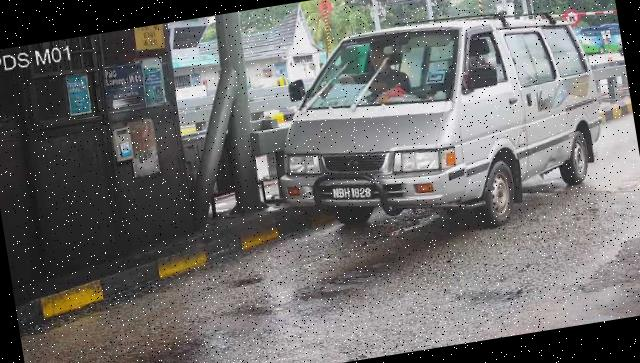License_Plate: (329, 178, 379, 209)
van: (259, 1, 617, 261)
